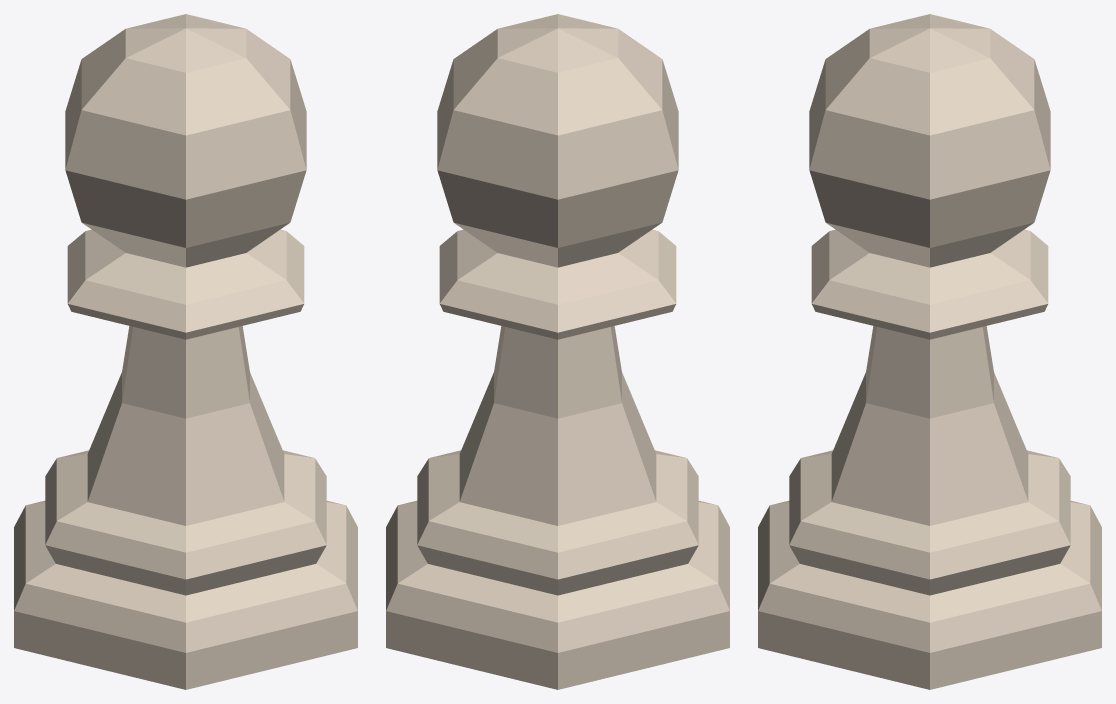
File: Pawn.fbx
The picture shows the model from 3 angles, left to right: view 1: azimuth 30°, elevation 25°; view 2: azimuth 150°, elevation 25°; view 3: azimuth 270°, elevation 25°; orthographic projection.
Visible parts, largest first — view 1: Pawn.001; view 2: Pawn.001; view 3: Pawn.001.
Part boxes in pixels (x1,y1,x2,y2): Pawn.001: (14, 14, 357, 689); Pawn.001: (386, 14, 729, 689); Pawn.001: (758, 14, 1101, 689).
Size of the model in its own units: 75.59 by 121 by 65.46.
